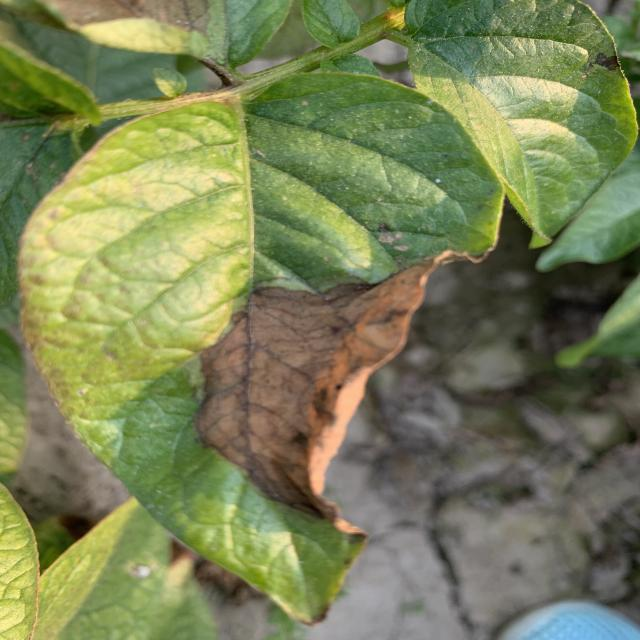lateblight: (195, 252, 453, 534)
